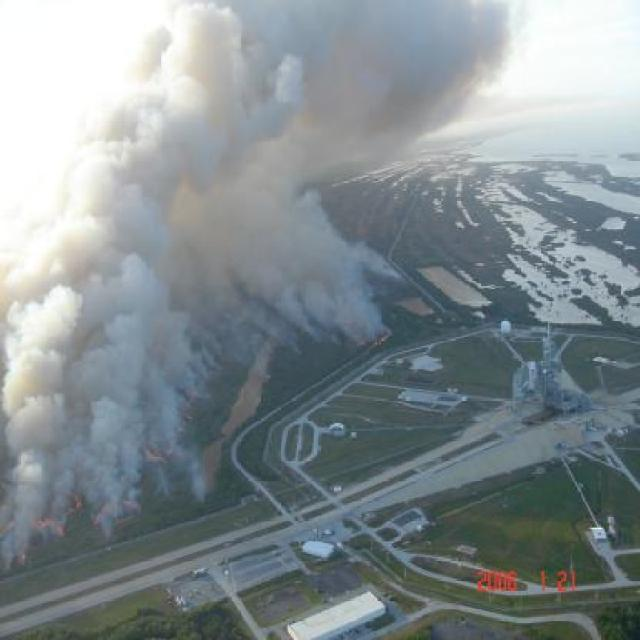Fire: (93, 498, 113, 526), (370, 326, 390, 348), (148, 450, 167, 467), (66, 494, 79, 511), (4, 519, 13, 533), (37, 514, 45, 528), (20, 552, 28, 566), (57, 522, 63, 540), (178, 412, 191, 420), (357, 340, 365, 346)
